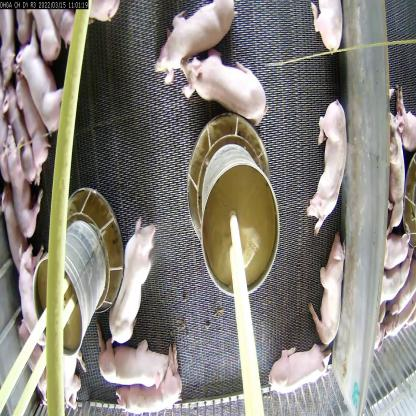Pig: (153, 0, 240, 81), (179, 51, 271, 126), (103, 215, 154, 347), (307, 96, 350, 238), (13, 31, 65, 137), (114, 346, 188, 415), (1, 124, 42, 243), (308, 238, 348, 351), (263, 340, 333, 402), (98, 334, 169, 388), (12, 78, 50, 175), (2, 87, 34, 187), (16, 243, 43, 347)
